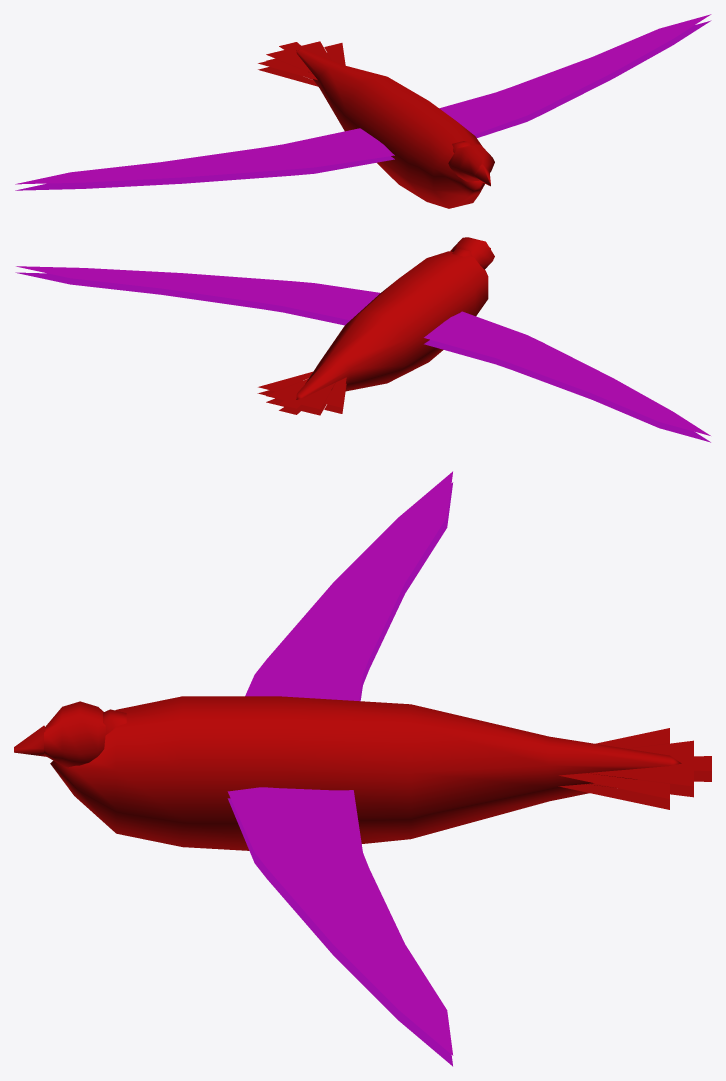
Rendered from sootytern.glb.
3 renders of one model, top to bottom at view 1: azimuth 30°, elevation 25°; view 2: azimuth 150°, elevation 25°; view 3: azimuth 270°, elevation 25°, orthographic. The views are drawn at different scales.
Parts seen in each view (by area): view 1: bird; view 2: bird; view 3: bird.
Part boxes in pixels (left/top/right/bottom): bird: left=15, top=14, right=711, bottom=208; bird: left=15, top=237, right=710, bottom=442; bird: left=14, top=471, right=711, bottom=1066.
Bounding box in the file's own units: 0.8984 × 0.0938 × 0.4531.
